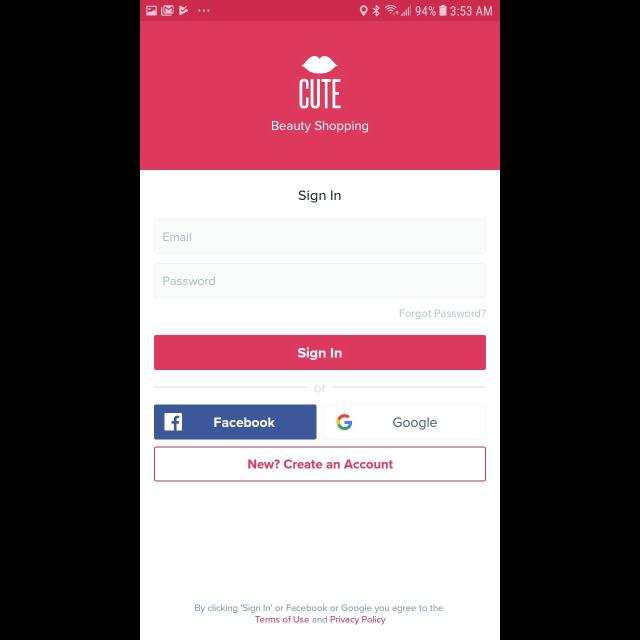image: (301, 56, 339, 74)
input: (154, 220, 486, 254), (154, 264, 486, 298)
text: (195, 604, 443, 624), (300, 78, 340, 110), (272, 121, 368, 133), (398, 309, 486, 319), (164, 276, 216, 286), (299, 191, 341, 203), (164, 232, 192, 242), (314, 384, 326, 392)
textbutton: (154, 446, 486, 482), (154, 336, 486, 370), (324, 404, 486, 440), (155, 404, 317, 440)
uppertaskbar: (140, 1, 500, 22)
